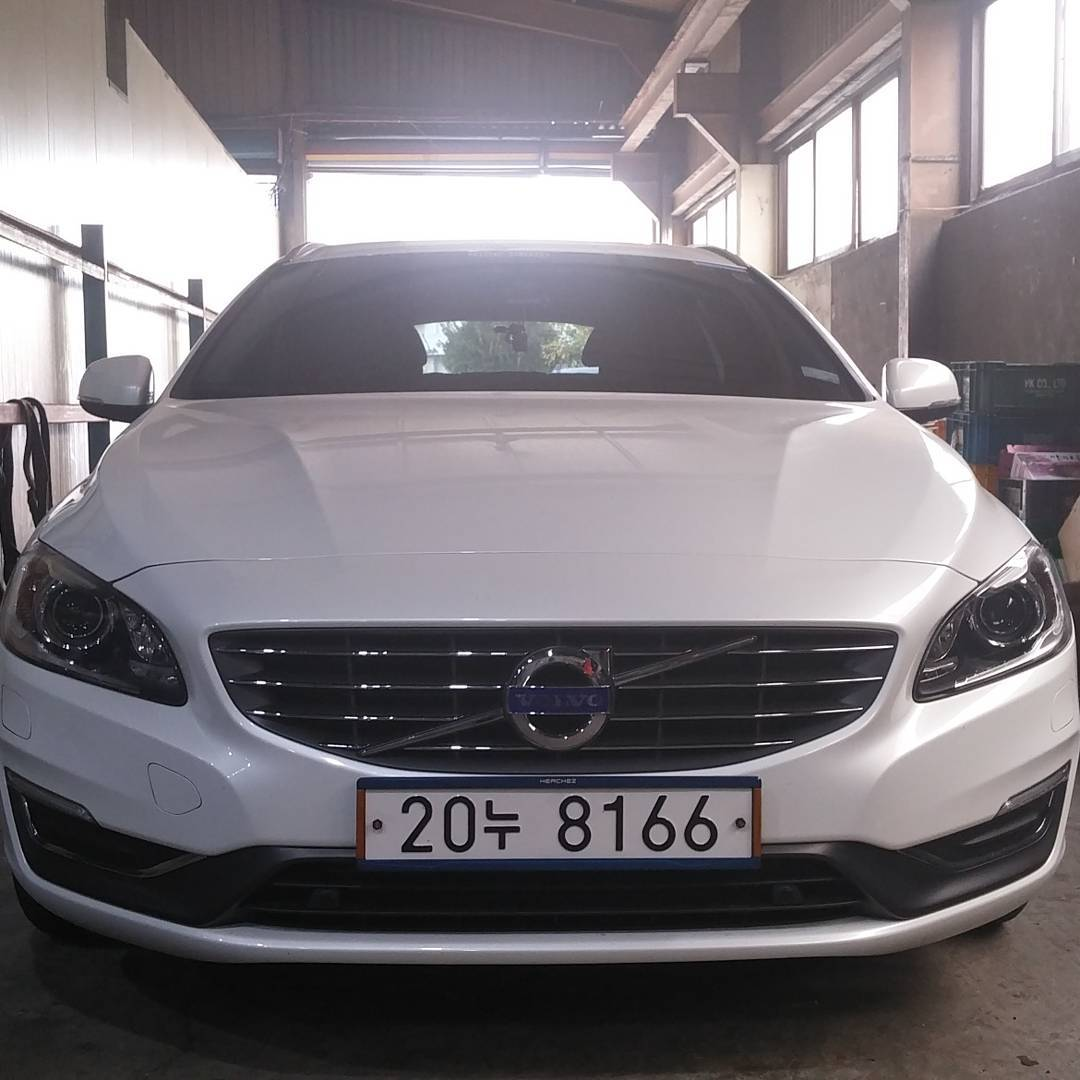plate: (361, 778, 759, 863)
